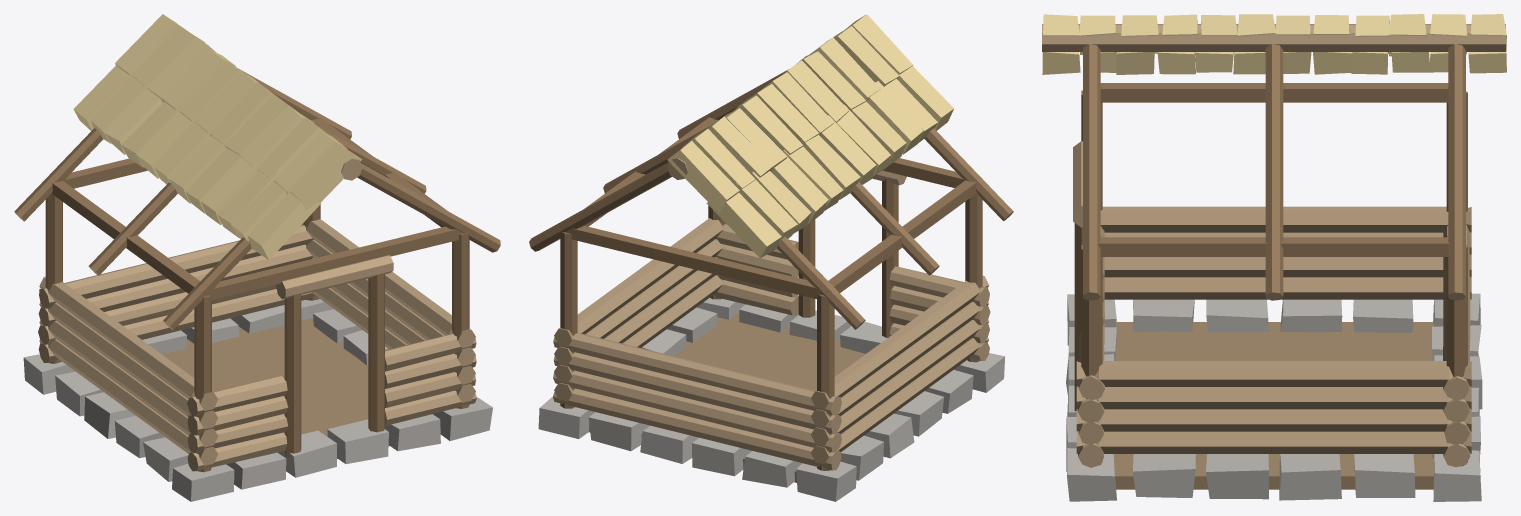
The model's file is building_smokehouse_half.glb.
The picture shows the model from 3 angles, left to right: view 1: azimuth 30°, elevation 25°; view 2: azimuth 150°, elevation 25°; view 3: azimuth 270°, elevation 25°; orthographic projection. The views are drawn at different scales.
Visible parts, largest first — view 1: building_smokehouse_half; view 2: building_smokehouse_half; view 3: building_smokehouse_half.
Part boxes in pixels (<box>): building_smokehouse_half: <box>14,14,500,501</box>; building_smokehouse_half: <box>529,14,1013,501</box>; building_smokehouse_half: <box>1042,14,1506,501</box>.
Size of the model in its own units: 3.85 by 3.56 by 3.77.
